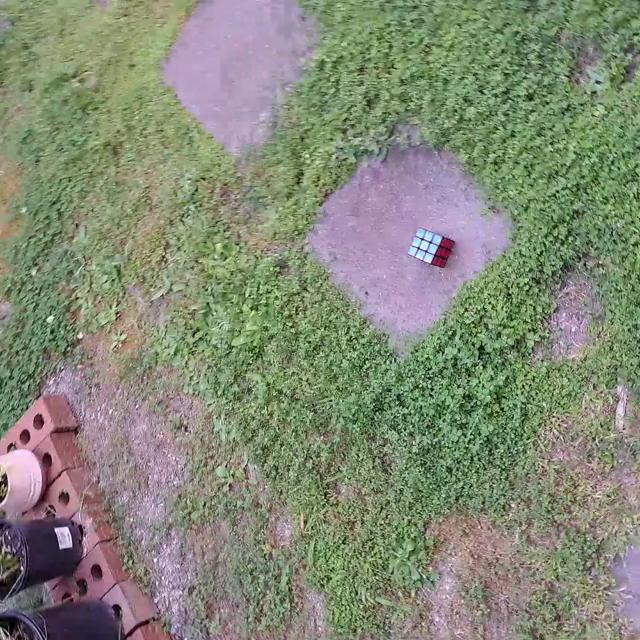rubix_cube: (406, 224, 462, 270)
